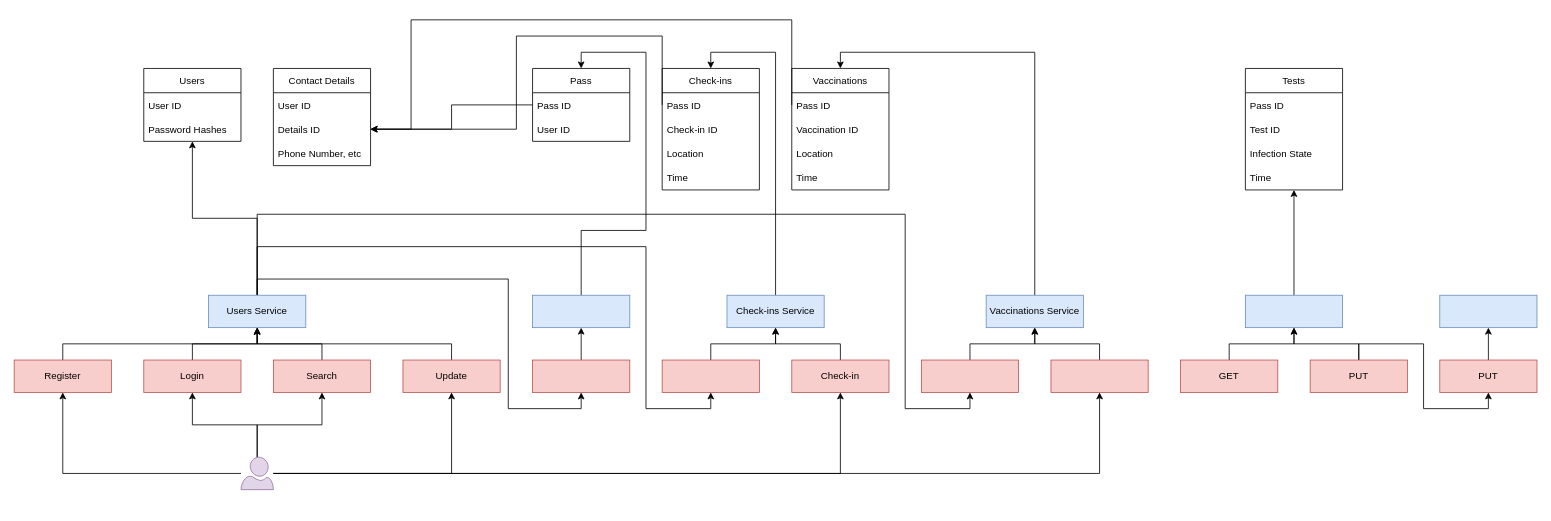
Image size: 1551x521. Some labels were removed from this diagram. Each missing label, with the centre of its shape:
"BOB" goes at (x=256, y=473).
"Book" goes at (x=1099, y=375).
"Get Bookings" goes at (x=970, y=375).
"Get Check-ins" goes at (x=710, y=375).
"Get Pass" goes at (x=581, y=375).
"Notifications Service" goes at (x=1488, y=311).
"Pass Service" goes at (x=581, y=311).
"Tests Service" goes at (x=1294, y=311).
